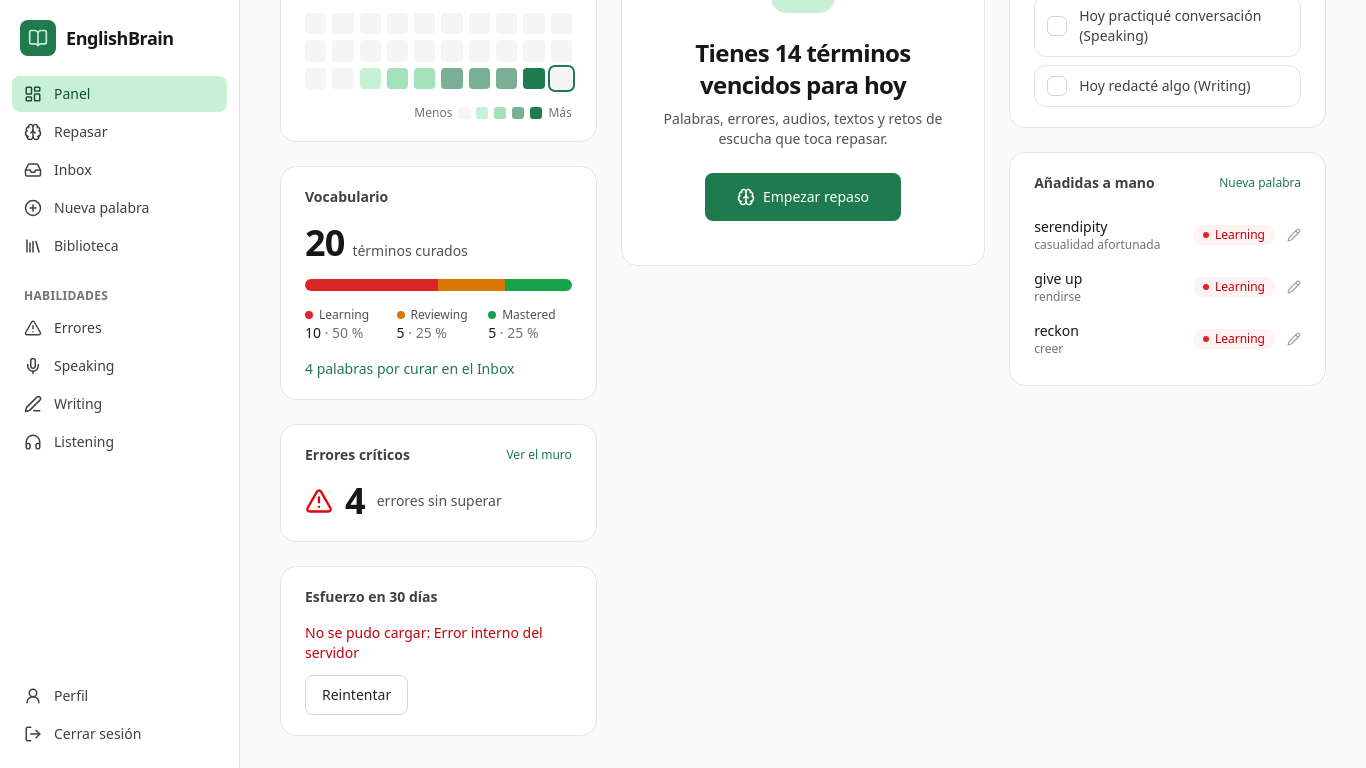
it: 17.1 · Layout a tres columnas › si un bloque falla, el resto sigue y ese ofrece reintentar
(page scrolled)
Expected: the message shows "No se pudo cargar", [305,623,434,642]
Click the button "Reintentar" at (357, 695), box [305,675,408,715]
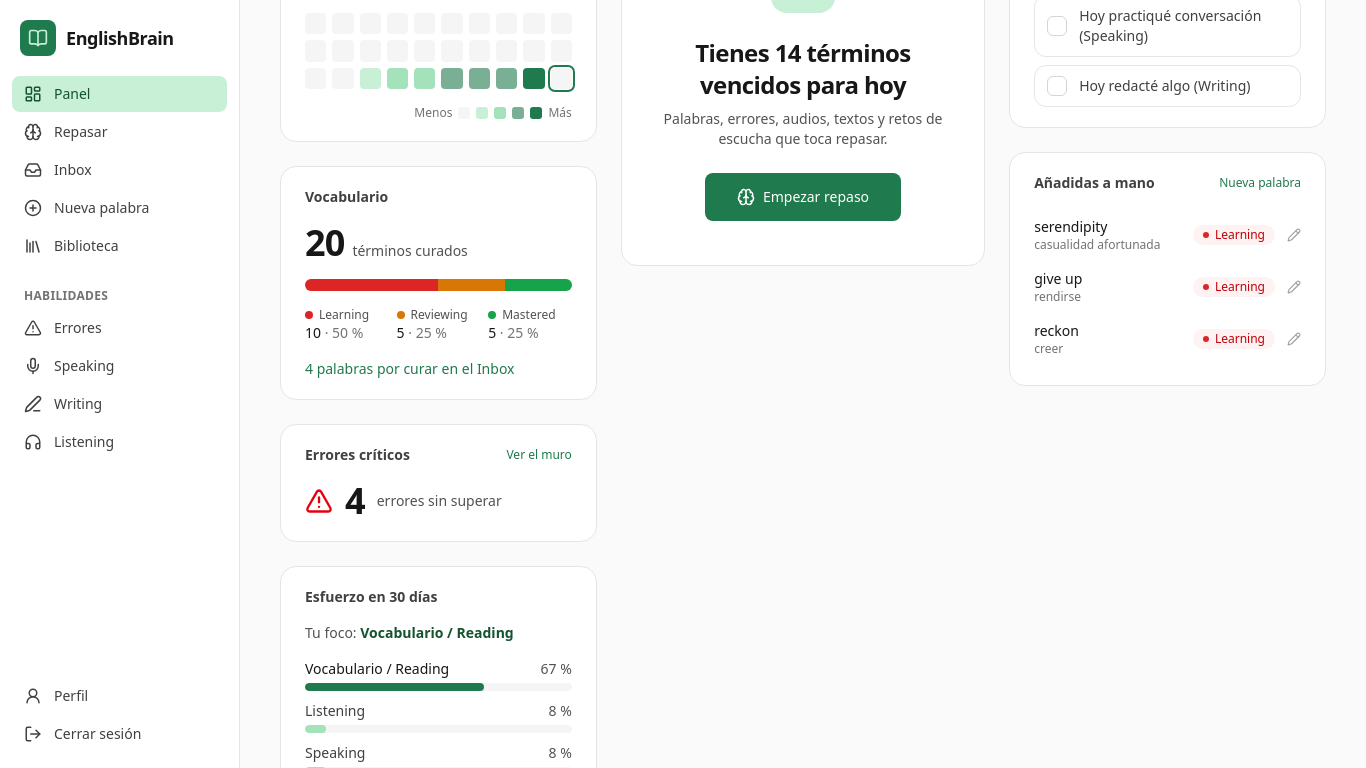
Now the text "Vocabulario / Reading" next to "Tu foco:" is shown, box [360,623,514,642]
